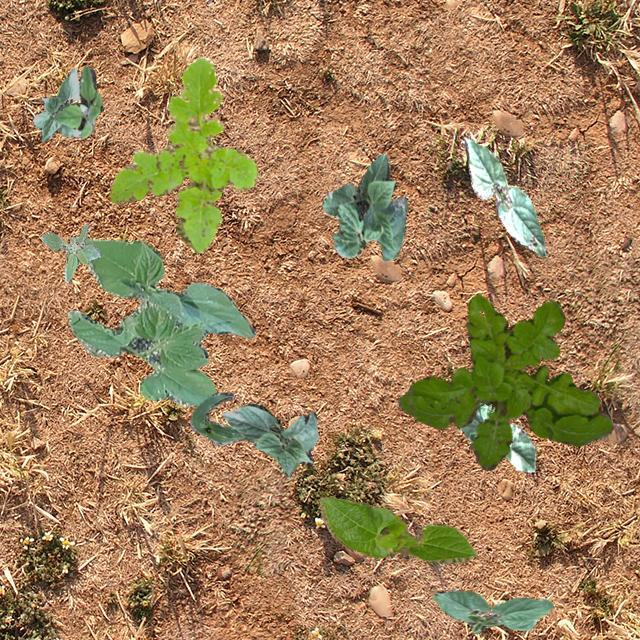crop: (66, 235, 254, 406), (318, 496, 476, 562), (460, 136, 546, 256), (322, 152, 406, 260), (222, 402, 318, 478), (458, 402, 534, 472), (432, 588, 552, 632), (31, 66, 80, 142), (188, 392, 254, 444)
weed: (397, 294, 612, 470), (110, 55, 258, 252), (40, 222, 100, 282), (52, 66, 102, 138)
